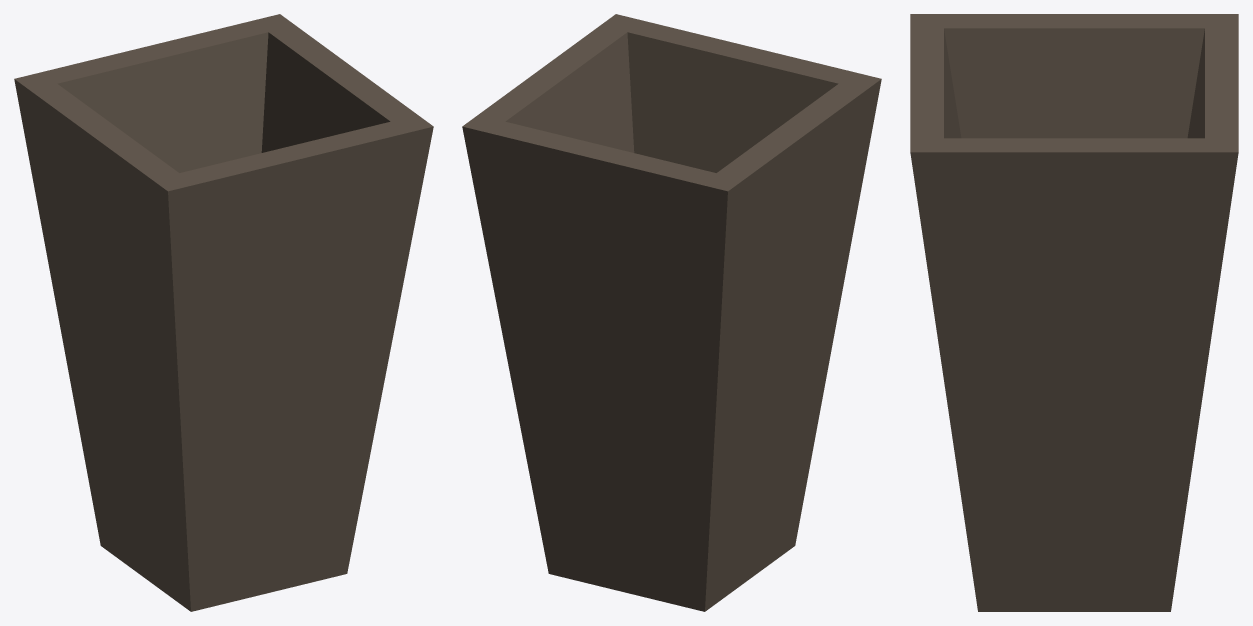
The model's file is Arrow_Canister.fbx.
3 renders of one model, left to right at view 1: azimuth 30°, elevation 25°; view 2: azimuth 150°, elevation 25°; view 3: azimuth 270°, elevation 25°, orthographic. The views are drawn at different scales.
Parts seen in each view (by area): view 1: Arrow_Canister; view 2: Arrow_Canister; view 3: Arrow_Canister.
Boxes of the visible parts, box(x1,y1,x2,y2) form: Arrow_Canister: box(14, 14, 433, 611); Arrow_Canister: box(462, 14, 881, 611); Arrow_Canister: box(910, 14, 1238, 611).
Size of the model in its own units: 8.36 by 13.74 by 8.38.
